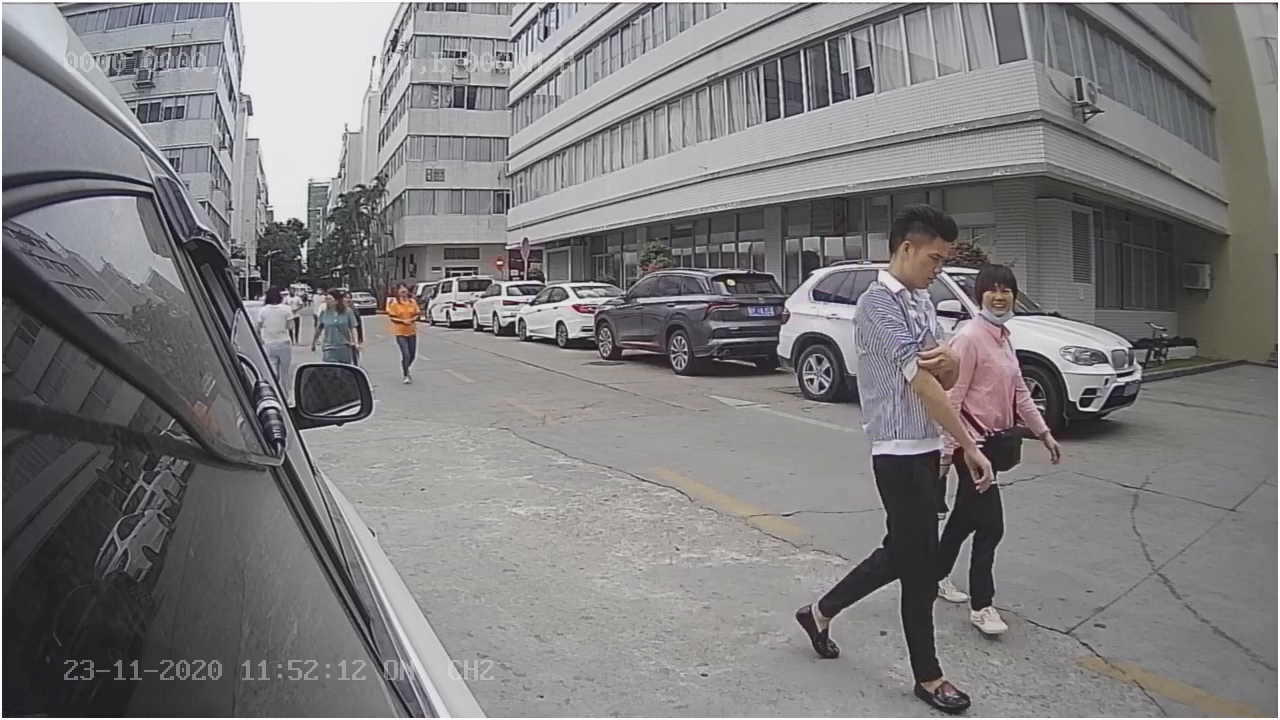person: (793, 206, 992, 709)
